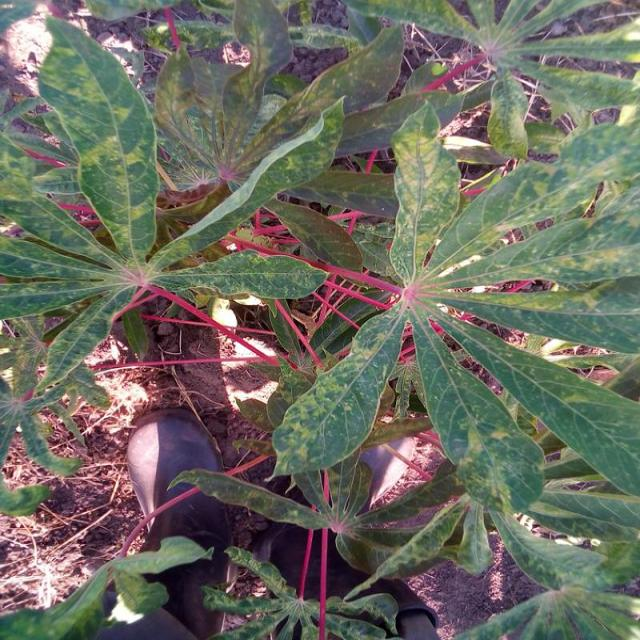cassava leaf: (2, 1, 640, 637), (38, 14, 160, 265)
